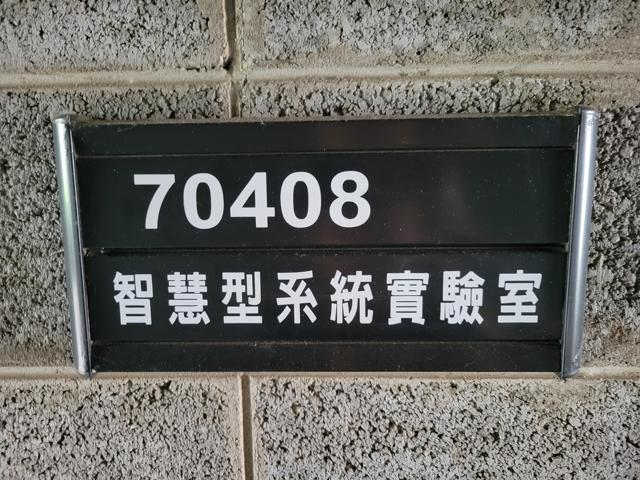doorplate: (45, 105, 601, 387)
